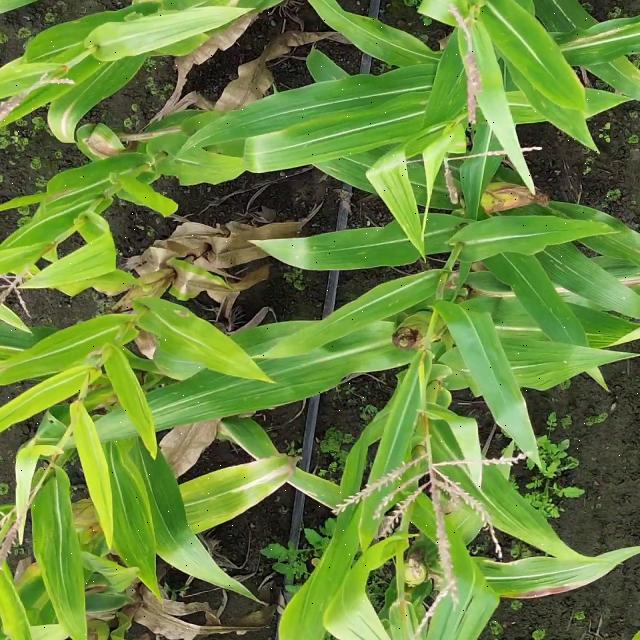gray-leaf-spot: (91, 483, 228, 578)
northern-leaf-blight: (475, 554, 629, 621)
southern-leaf-blight: (50, 54, 141, 143), (141, 375, 252, 426)
